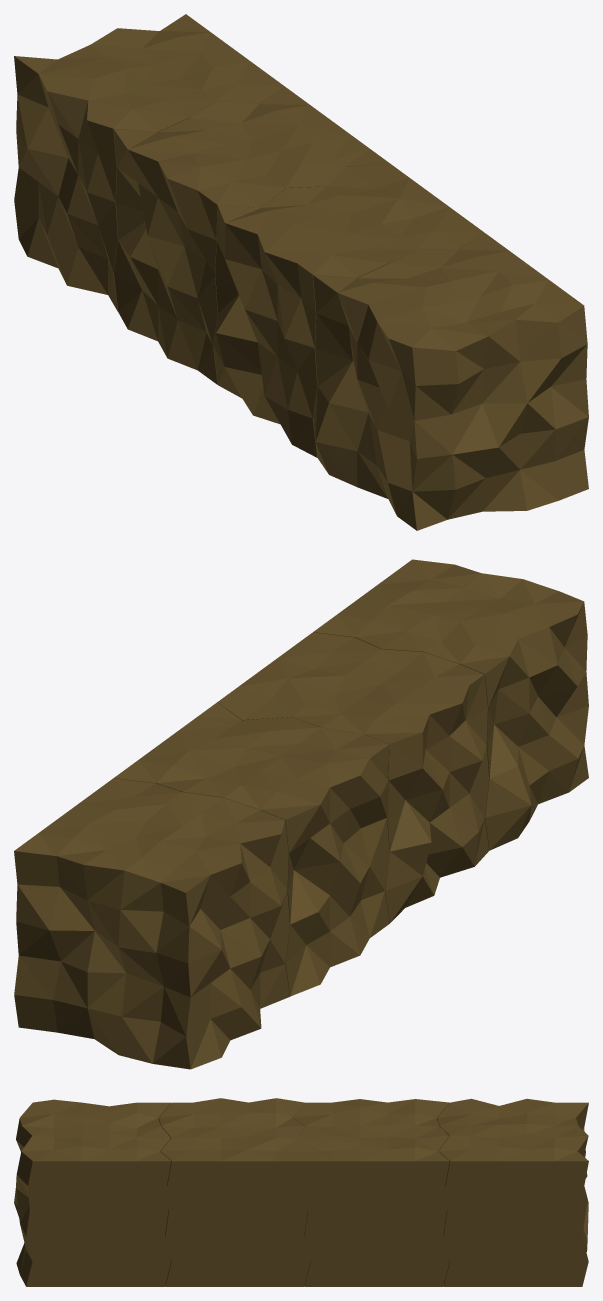
Rendered from SM_endpath_alt_DE.fbx.
The picture shows the model from 3 angles, top to bottom: view 1: azimuth 30°, elevation 25°; view 2: azimuth 150°, elevation 25°; view 3: azimuth 270°, elevation 25°; orthographic projection. The views are drawn at different scales.
Parts seen in each view (by area): view 1: SM_endpath_1_alt_DE, SM_endpath_rightmid_alt_DE, SM_endpath_2_alt_DE, SM_endpath_leftmid_alt_DE; view 2: SM_endpath_2_alt_DE, SM_endpath_rightmid_alt_DE, SM_endpath_1_alt_DE, SM_endpath_leftmid_alt_DE; view 3: SM_endpath_1_alt_DE, SM_endpath_2_alt_DE, SM_endpath_rightmid_alt_DE, SM_endpath_leftmid_alt_DE.
Boxes of the visible parts, left/top/right/bottom form: SM_endpath_1_alt_DE: left=313, top=233, right=588, bottom=530; SM_endpath_rightmid_alt_DE: left=113, top=87, right=388, bottom=384; SM_endpath_2_alt_DE: left=14, top=14, right=284, bottom=311; SM_endpath_leftmid_alt_DE: left=213, top=163, right=484, bottom=457; SM_endpath_2_alt_DE: left=14, top=778, right=289, bottom=1069; SM_endpath_rightmid_alt_DE: left=114, top=702, right=389, bottom=996; SM_endpath_1_alt_DE: left=313, top=559, right=588, bottom=850; SM_endpath_leftmid_alt_DE: left=217, top=632, right=489, bottom=923; SM_endpath_1_alt_DE: left=14, top=1099, right=171, bottom=1286; SM_endpath_2_alt_DE: left=437, top=1098, right=588, bottom=1286; SM_endpath_rightmid_alt_DE: left=293, top=1099, right=449, bottom=1286; SM_endpath_leftmid_alt_DE: left=159, top=1098, right=317, bottom=1286.
Bounding box in the file's own units: 135 × 498 × 123.
